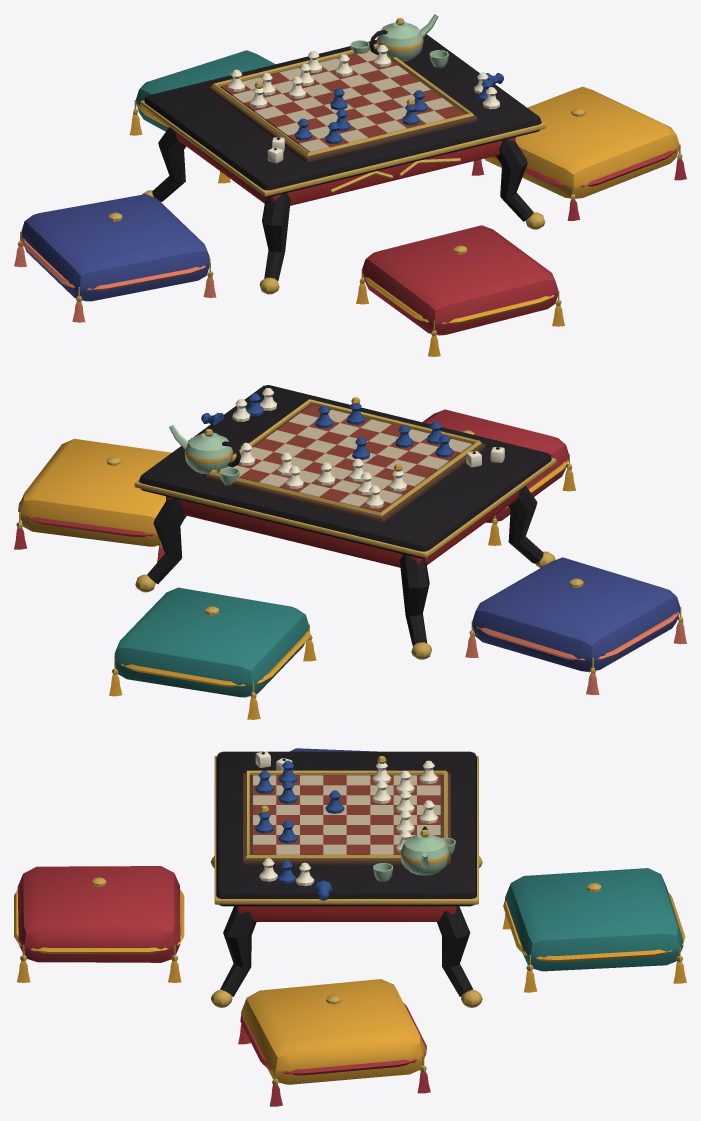
Rendered from deco_game_table.fbx.
3 views of the same model, one above another, from view 1: azimuth 30°, elevation 25°; view 2: azimuth 150°, elevation 25°; view 3: azimuth 270°, elevation 25° (orthographic). The views are drawn at different scales.
Parts seen in each view (by area): view 1: GameTable_Table, GameTable_CushionFront, GameTable_CushionLeft, GameTable_Board, GameTable_CushionRight, GameTable_Pieces, GameTable_CushionBack, GameTable_TeaSet; view 2: GameTable_Table, GameTable_CushionLeft, GameTable_CushionBack, GameTable_Board, GameTable_CushionRight, GameTable_Pieces, GameTable_CushionFront, GameTable_TeaSet; view 3: GameTable_Table, GameTable_CushionBack, GameTable_CushionRight, GameTable_CushionFront, GameTable_Board, GameTable_Pieces, GameTable_TeaSet.
Part boxes in pixels (x1,y1,x2,y2): GameTable_Table: (140,34,545,294); GameTable_CushionFront: (356,225,564,356); GameTable_CushionLeft: (14,194,216,322); GameTable_Board: (208,44,477,162); GameTable_CushionRight: (471,86,686,220); GameTable_Pieces: (228,45,503,163); GameTable_CushionBack: (129,50,275,183); GameTable_TeaSet: (350,14,448,67); GameTable_Table: (134,385,556,659); GameTable_CushionLeft: (465,557,686,694); GameTable_CushionBack: (109,587,316,719); GameTable_Board: (206,399,484,522); GameTable_CushionRight: (14,438,186,562); GameTable_Pieces: (201,388,504,508); GameTable_CushionFront: (422,409,575,545); GameTable_TeaSet: (169,425,240,485); GameTable_Table: (210,751,482,1007); GameTable_CushionBack: (502,868,686,992); GameTable_CushionRight: (238,979,430,1106); GameTable_CushionFront: (14,866,184,982); GameTable_Board: (242,770,450,864); GameTable_Pieces: (255,751,438,900); GameTable_TeaSet: (373,826,455,881).
Size of the model in its own units: 283 by 71.02 by 258.
